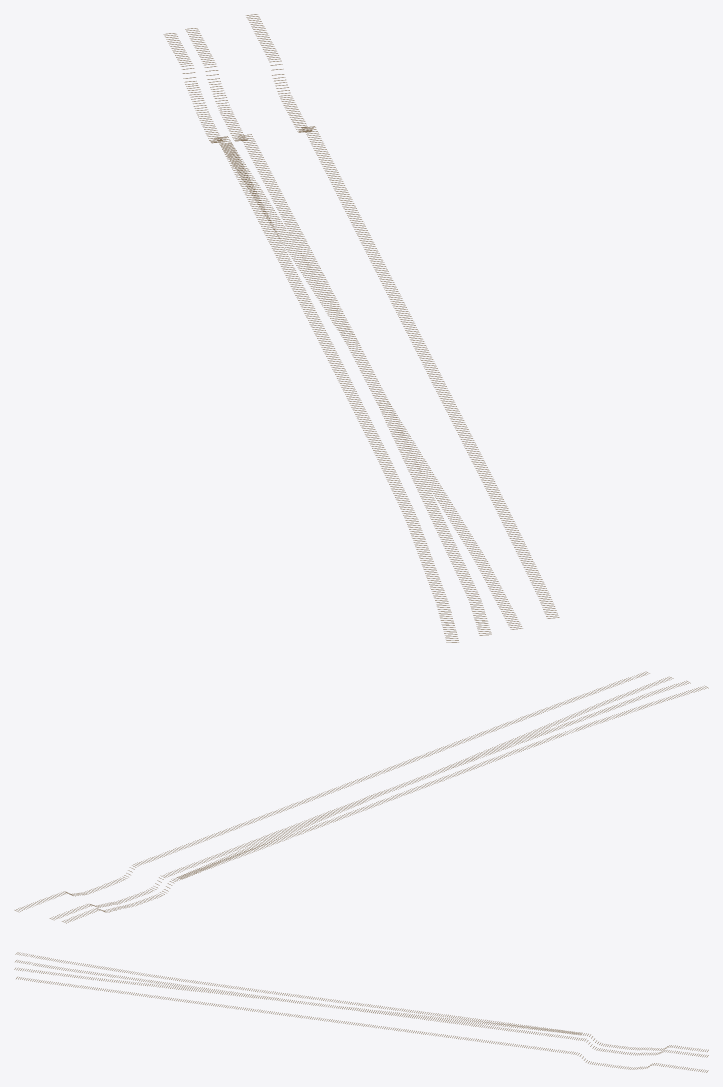
File: c_1629_17832_rail_sleeper.glb
3 views of the same model, one above another, from view 1: azimuth 30°, elevation 25°; view 2: azimuth 150°, elevation 25°; view 3: azimuth 270°, elevation 25° (orthographic). The views are drawn at different scales.
Parts seen in each view (by area): view 1: geometry_0; view 2: geometry_0; view 3: geometry_0.
Part boxes in pixels (x1,y1,x2,y2): geometry_0: [163, 14, 559, 642]; geometry_0: [14, 671, 708, 923]; geometry_0: [14, 952, 708, 1072].
Bounding box in the file's own units: 107 × 3.31 × 257.
